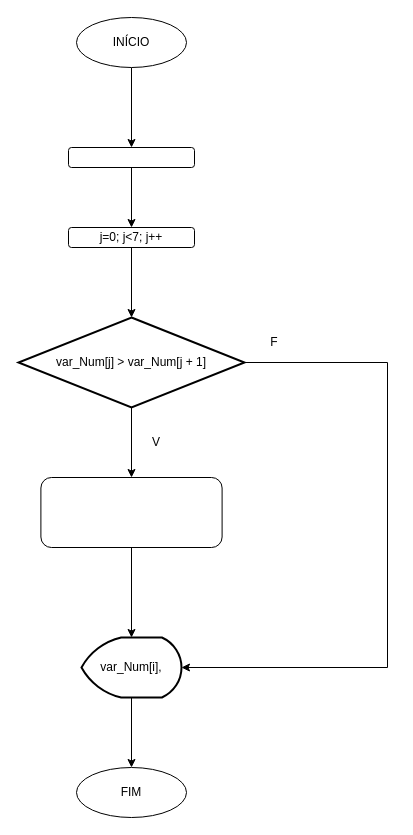
Some shapes in this 413 by 835 pixel diagram are drawn without their labels. The centre of each missing label's shape, as x and y in pixels:
aux = var_Num[j] var_Num[j] = var_Num[j + 1] var_Num[j + 1] = aux: point (131, 512)
i=0; i<8; i++: point (131, 157)
